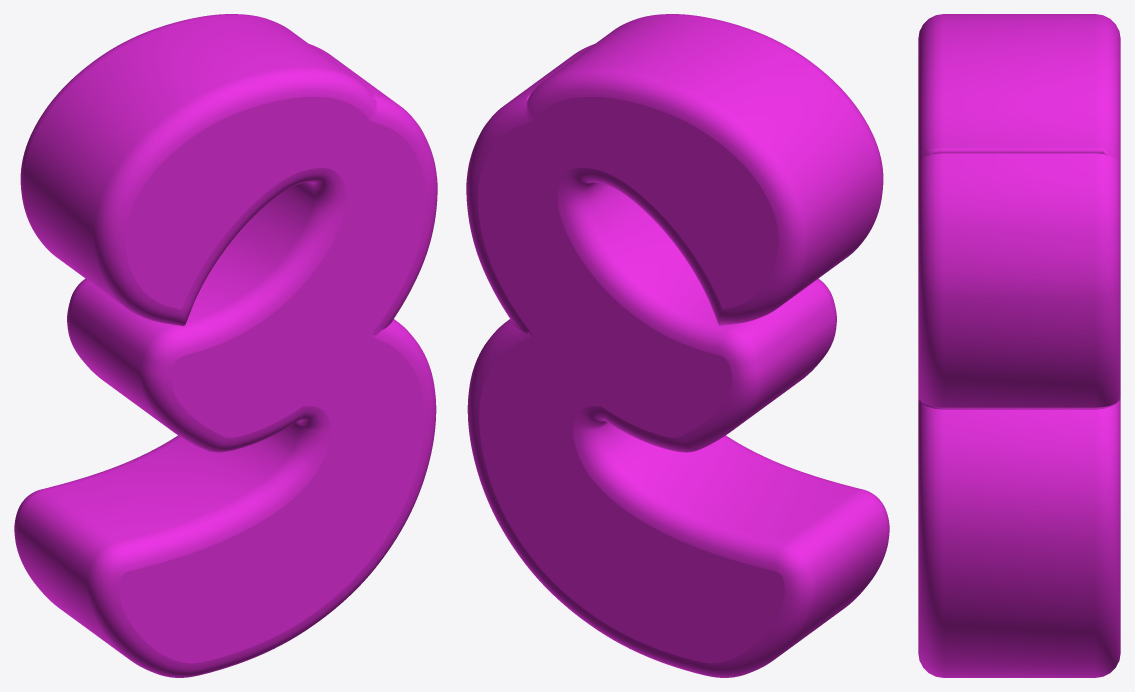
The picture shows the model from 3 angles, left to right: view 1: azimuth 30°, elevation 25°; view 2: azimuth 150°, elevation 25°; view 3: azimuth 270°, elevation 25°; orthographic projection. The views are drawn at different scales.
Parts seen in each view (by area): view 1: Text; view 2: Text; view 3: Text.
Boxes of the visible parts, x1=… form: Text: x1=14, y1=14, x2=437, y2=677; Text: x1=466, y1=14, x2=889, y2=677; Text: x1=918, y1=14, x2=1120, y2=677.
Size of the model in its own units: 0.3441 by 0.5541 by 0.16.
